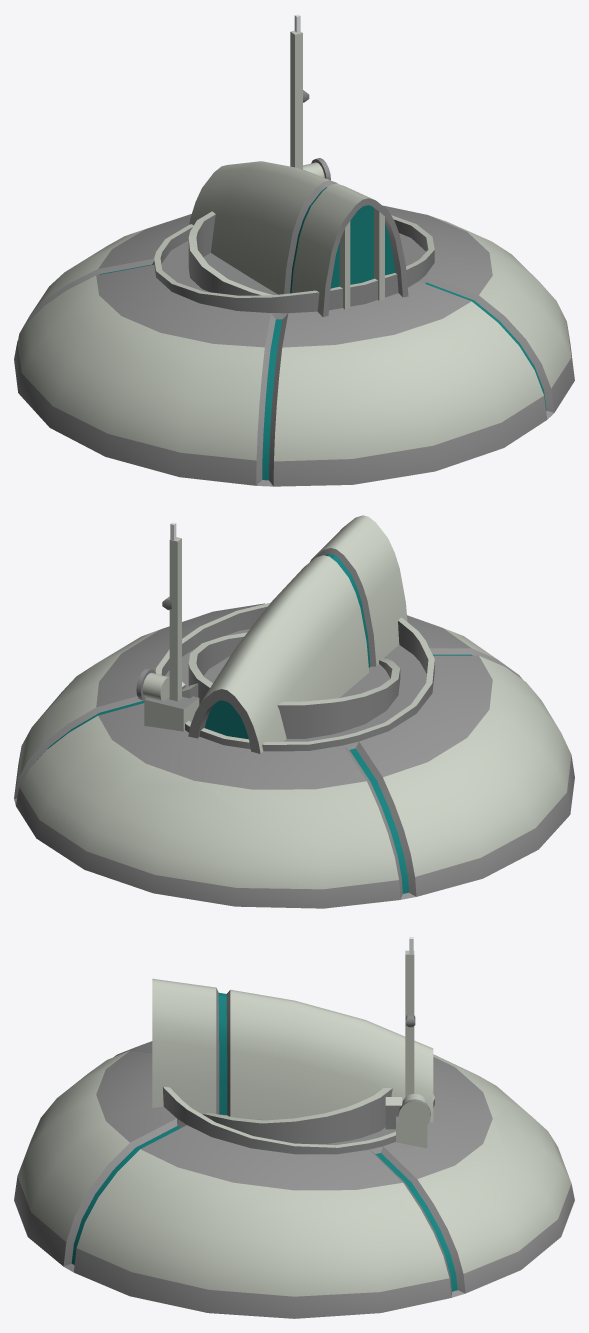
Rendered from SM_house_donut.fbx.
3 renders of one model, top to bottom at view 1: azimuth 30°, elevation 25°; view 2: azimuth 150°, elevation 25°; view 3: azimuth 270°, elevation 25°, orthographic.
Visible parts, largest first — view 1: SM_house_donut; view 2: SM_house_donut; view 3: SM_house_donut.
Boxes of the visible parts, x1,y1,x2,y2 form: SM_house_donut: (14, 14, 574, 486); SM_house_donut: (14, 515, 574, 908); SM_house_donut: (14, 937, 574, 1318).
Bounding box in the file's own units: 201 × 116 × 201.
